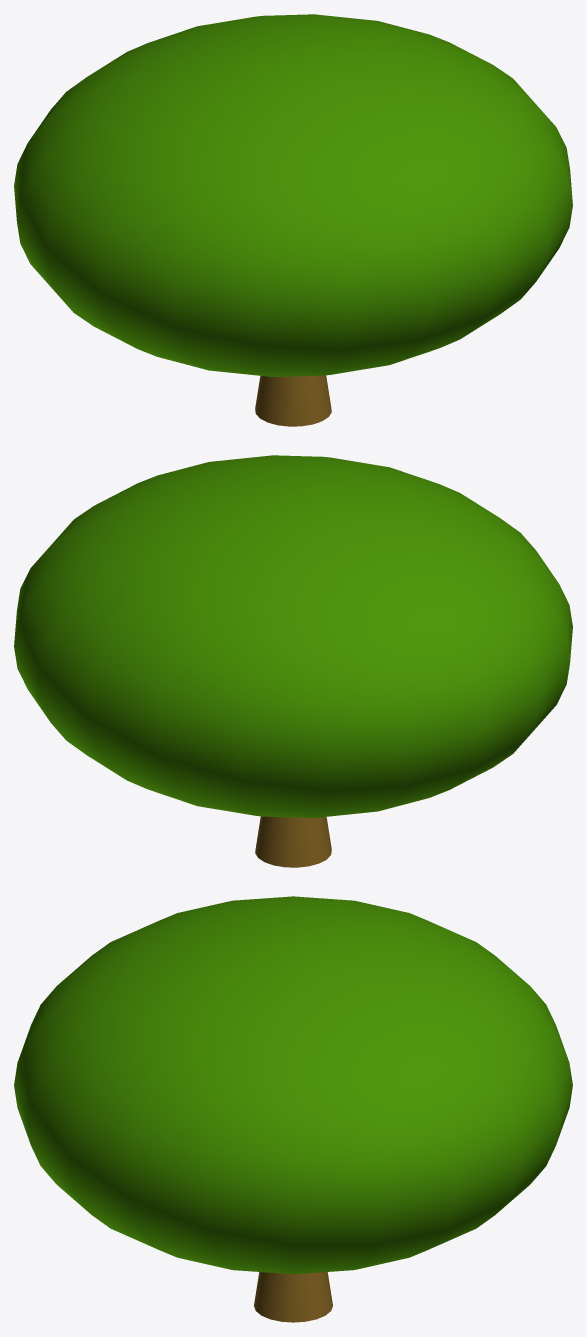
The model's file is simpleTreeA3.fbx.
3 views of the same model, one above another, from view 1: azimuth 30°, elevation 25°; view 2: azimuth 150°, elevation 25°; view 3: azimuth 270°, elevation 25° (orthographic). The views are drawn at different scales.
Parts seen in each view (by area): view 1: pSphere1, pCylinder1; view 2: pSphere1, pCylinder1; view 3: pSphere1, pCylinder1.
Boxes of the visible parts, left/top/right/bottom form: pSphere1: left=14, top=14, right=572, bottom=376; pCylinder1: left=255, top=375, right=331, bottom=426; pSphere1: left=14, top=455, right=572, bottom=817; pCylinder1: left=255, top=816, right=331, bottom=867; pSphere1: left=14, top=896, right=572, bottom=1274; pCylinder1: left=254, top=1272, right=332, bottom=1322.
Bounding box in the file's own units: 53.13 × 36.51 × 50.8.
